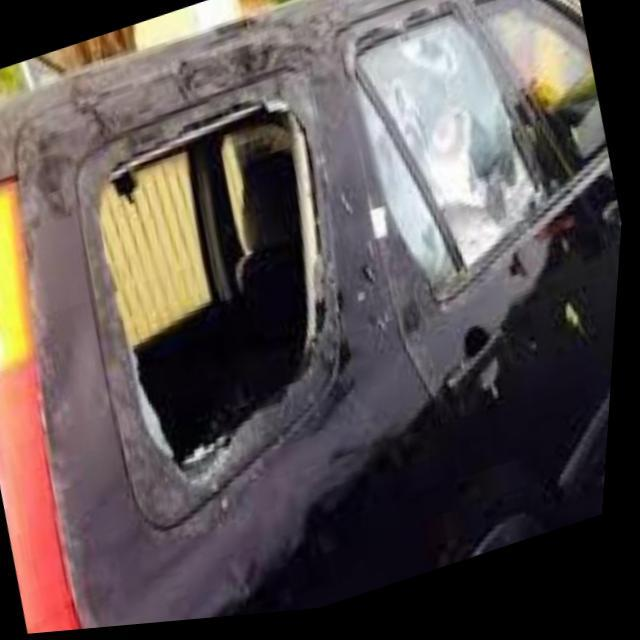glass shatter: (92, 86, 338, 506)
